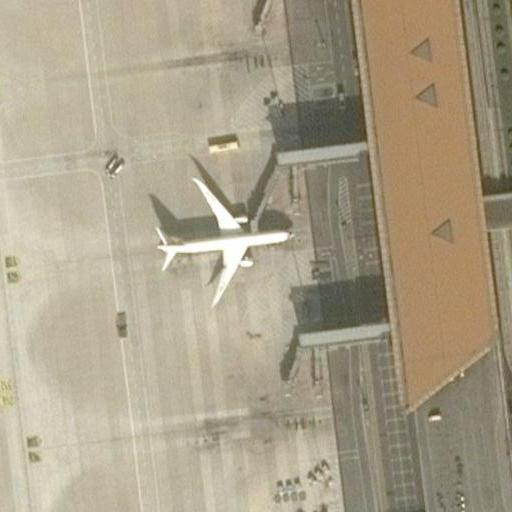Aircraft: (140, 164, 298, 311)
